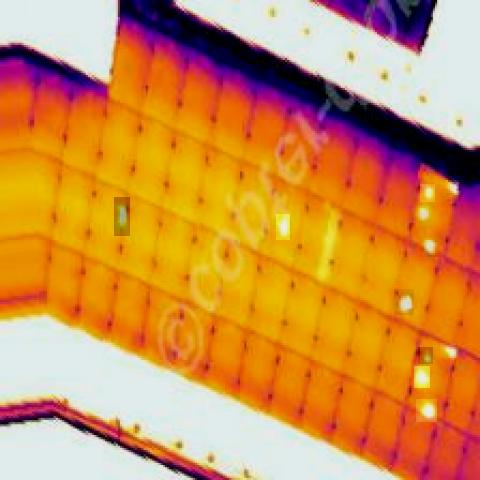fault: (114, 197, 130, 236), (394, 289, 414, 315), (416, 399, 437, 422), (444, 180, 460, 204), (276, 214, 290, 240), (420, 236, 437, 257), (414, 366, 430, 388), (420, 184, 435, 202), (418, 347, 433, 364), (416, 203, 428, 223), (440, 343, 456, 358)
